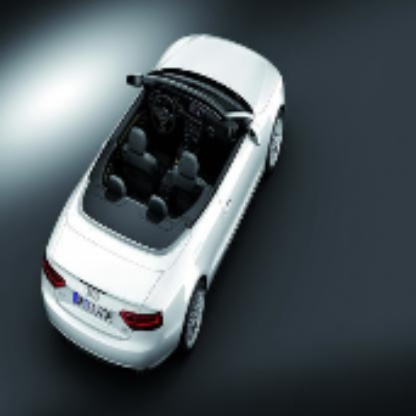Vehicle: (40, 29, 289, 376)
